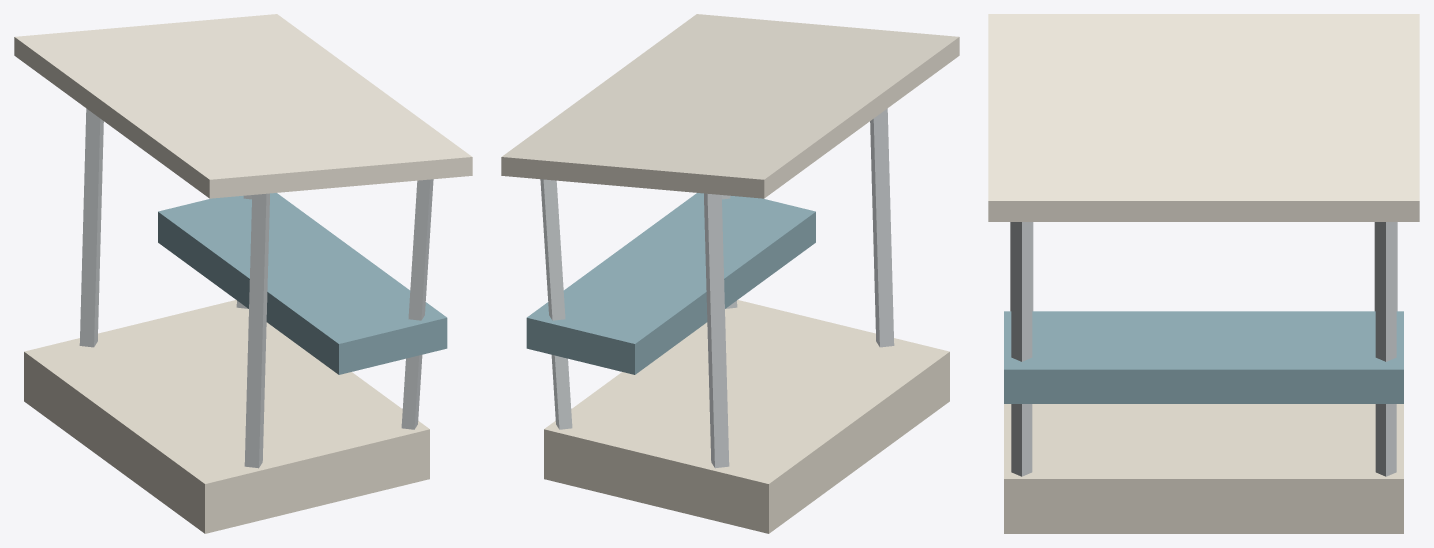
File: prop_market_booth_v4_ShadowProxy.glb
The picture shows the model from 3 angles, left to right: view 1: azimuth 30°, elevation 25°; view 2: azimuth 150°, elevation 25°; view 3: azimuth 270°, elevation 25°; orthographic projection. The views are drawn at different scales.
Visible parts, largest first — view 1: prop_market_booth_v4_ShadowProxy / Primary assembly; view 2: prop_market_booth_v4_ShadowProxy / Primary assembly; view 3: prop_market_booth_v4_ShadowProxy / Primary assembly.
Part boxes in pixels (<box>): prop_market_booth_v4_ShadowProxy / Primary assembly: <box>14,14,472,533</box>; prop_market_booth_v4_ShadowProxy / Primary assembly: <box>501,14,959,533</box>; prop_market_booth_v4_ShadowProxy / Primary assembly: <box>988,14,1419,533</box>.
Bounding box in the file's own units: 1.6 × 2.09 × 2.06.
